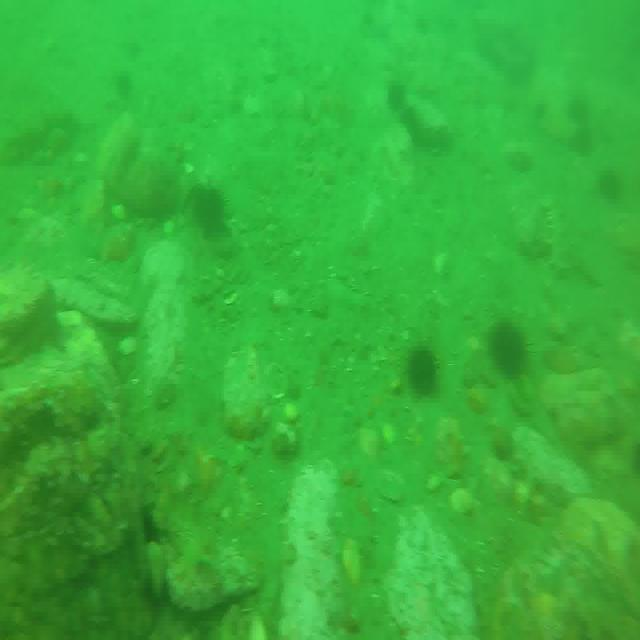echinus: (191, 184, 229, 239), (491, 321, 527, 378), (406, 342, 438, 398), (565, 94, 592, 135), (599, 163, 621, 209), (574, 130, 600, 159), (388, 81, 405, 118)
holothurian: (546, 181, 577, 274)
